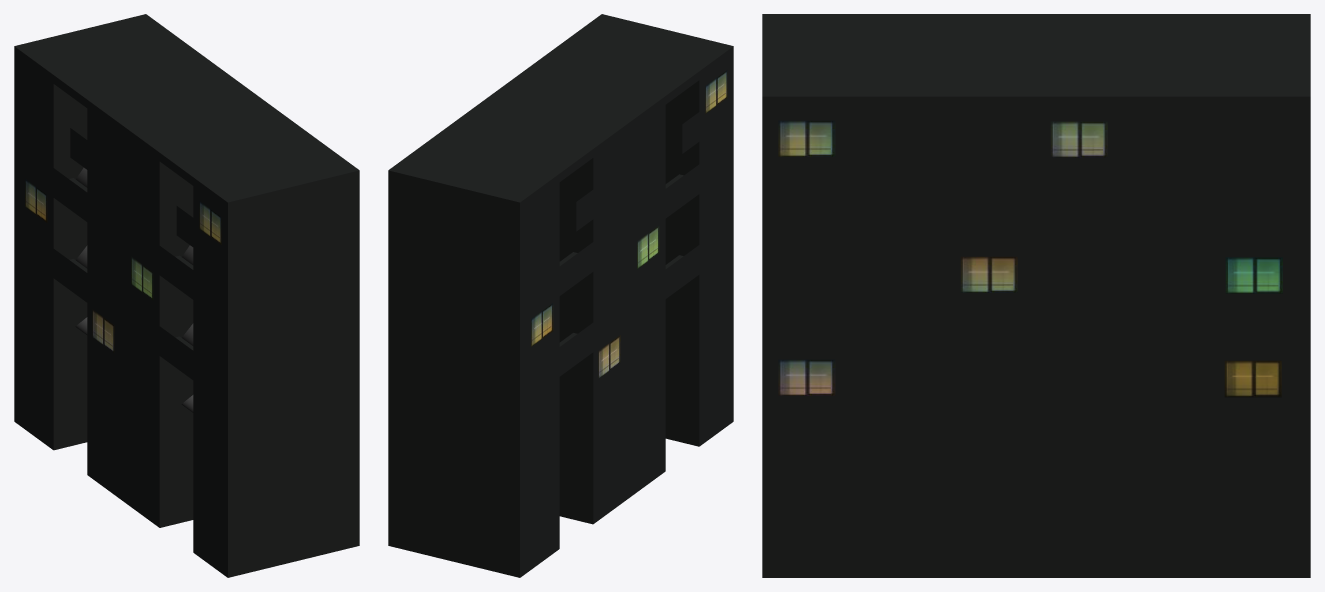
Rendered from AMB_DANCHI00.glb.
3 renders of one model, left to right at view 1: azimuth 30°, elevation 25°; view 2: azimuth 150°, elevation 25°; view 3: azimuth 270°, elevation 25°, orthographic. The views are drawn at different scales.
Parts seen in each view (by area): view 1: OBJ; view 2: OBJ; view 3: OBJ.
Boxes of the visible parts, x1,y1,x2,y2 form: OBJ: [14, 14, 359, 577]; OBJ: [388, 14, 733, 577]; OBJ: [762, 14, 1310, 577].
Bounding box in the file's own units: 30.74 × 83.16 × 85.78.
Materials: 4 (4 with a texture image).
